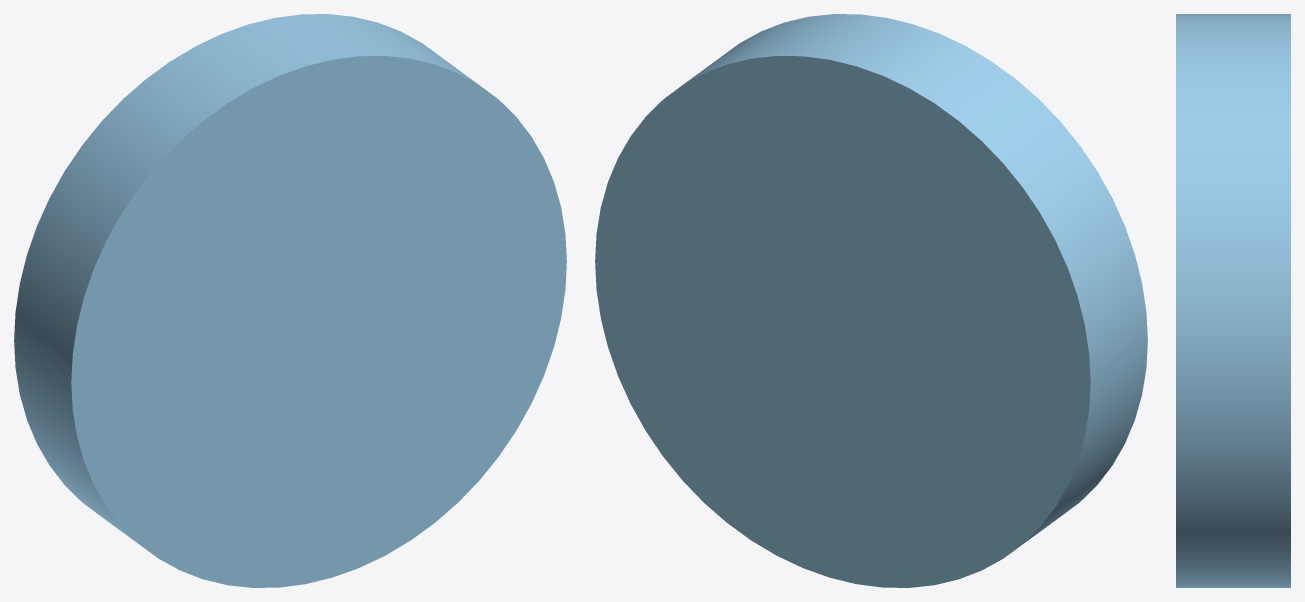
3 views of the same model, side by side, from view 1: azimuth 30°, elevation 25°; view 2: azimuth 150°, elevation 25°; view 3: azimuth 270°, elevation 25° (orthographic).
Parts seen in each view (by area): view 1: mesh2085, mesh2086; view 2: mesh2087, mesh2086; view 3: mesh2086.
Boxes of the visible parts, x1,y1,x2,y2 form: mesh2085: [71, 56, 566, 587]; mesh2086: [14, 14, 478, 551]; mesh2087: [595, 56, 1090, 587]; mesh2086: [683, 14, 1147, 551]; mesh2086: [1176, 14, 1290, 587].
Size of the model in its own units: 0.01 by 0.00999 by 0.002.
